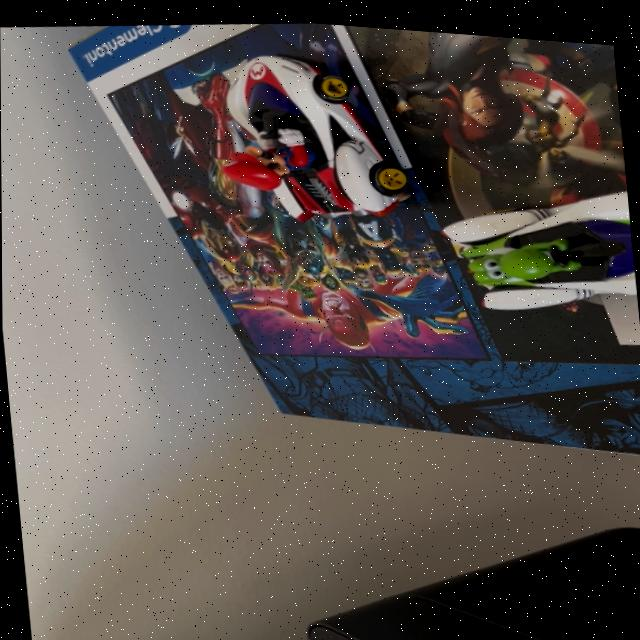mario: (195, 24, 428, 241)
yoshi: (425, 161, 637, 324)
